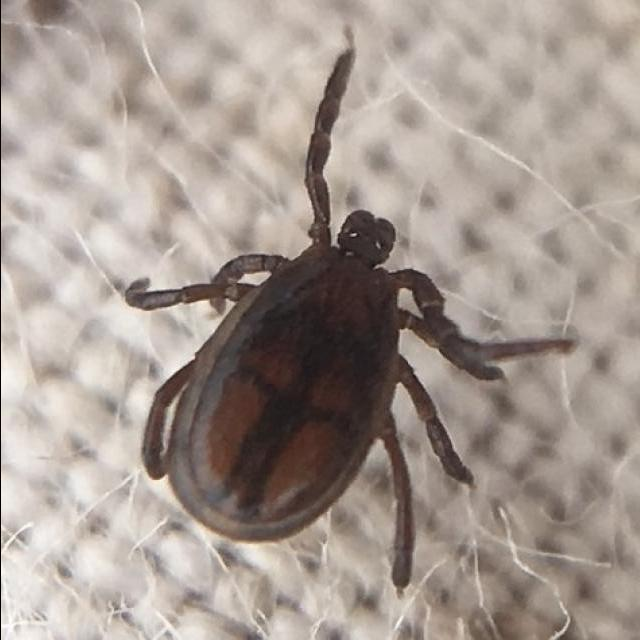Ixodes Ricinus-M: (121, 49, 577, 595)
